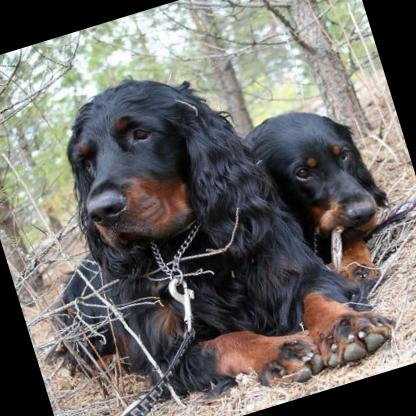Gordon_setter: (0, 20, 403, 416)
